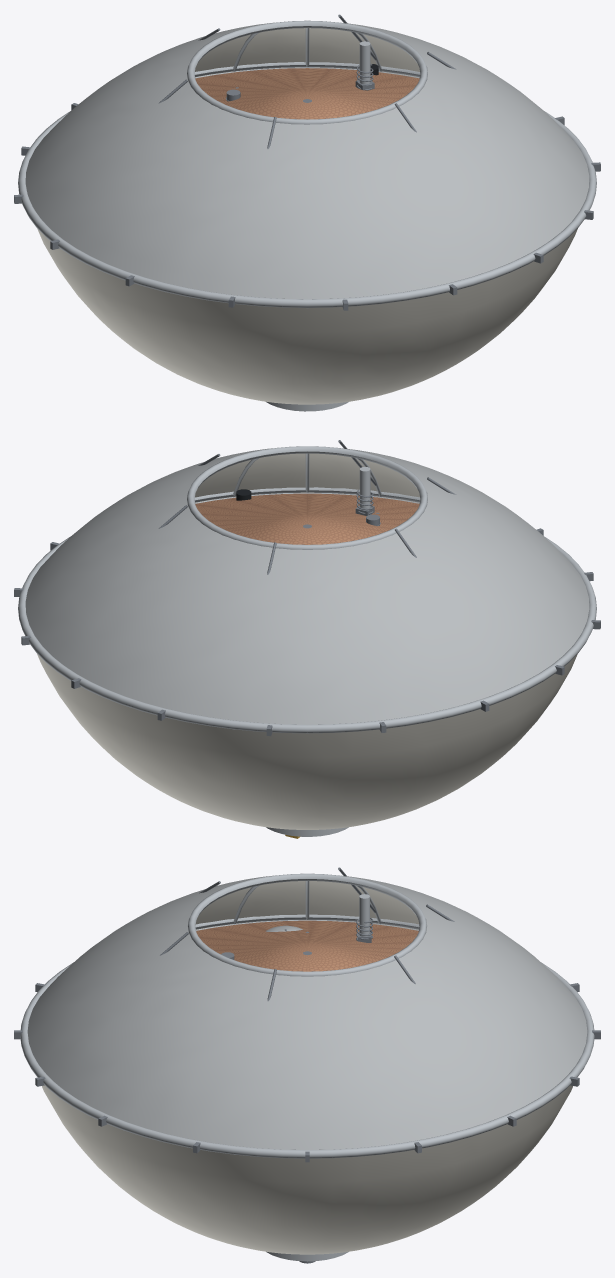
File: viking2-bioshield.glb
3 renders of one model, top to bottom at view 1: azimuth 30°, elevation 25°; view 2: azimuth 150°, elevation 25°; view 3: azimuth 270°, elevation 25°, orthographic.
Visible parts, largest first — view 1: VLC_BIOSHIELD_BASE, VLC_BIOSHIELD_CAP, VLC_BIOSHIELD_SEPARATION_JOINT, VLC_HEAT_SHIELD, VLC_AEROSHELL_MOUNTS, VLC_BIOSHIELD_STRUT_RODS; view 2: VLC_BIOSHIELD_BASE, VLC_BIOSHIELD_CAP, VLC_BIOSHIELD_SEPARATION_JOINT, VLC_HEAT_SHIELD, VLC_AEROSHELL_MOUNTS, VLC_BIOSHIELD_STRUT_RODS; view 3: VLC_BIOSHIELD_BASE, VLC_BIOSHIELD_CAP, VLC_BIOSHIELD_SEPARATION_JOINT, VLC_HEAT_SHIELD, VLC_AEROSHELL_MOUNTS, VLC_BIOSHIELD_STRUT_RODS.
Part boxes in pixels (left/top/right/bottom): VLC_BIOSHIELD_BASE: left=25, top=20, right=589, bottom=299; VLC_BIOSHIELD_CAP: left=37, top=67, right=577, bottom=404; VLC_BIOSHIELD_SEPARATION_JOINT: left=14, top=62, right=600, bottom=310; VLC_HEAT_SHIELD: left=195, top=68, right=419, bottom=119; VLC_AEROSHELL_MOUNTS: left=355, top=41, right=374, bottom=90; VLC_BIOSHIELD_STRUT_RODS: left=158, top=14, right=456, bottom=148; VLC_BIOSHIELD_BASE: left=25, top=446, right=589, bottom=724; VLC_BIOSHIELD_CAP: left=37, top=492, right=577, bottom=829; VLC_BIOSHIELD_SEPARATION_JOINT: left=14, top=487, right=600, bottom=736; VLC_HEAT_SHIELD: left=195, top=493, right=419, bottom=544; VLC_AEROSHELL_MOUNTS: left=355, top=467, right=374, bottom=515; VLC_BIOSHIELD_STRUT_RODS: left=158, top=440, right=456, bottom=574; VLC_BIOSHIELD_BASE: left=27, top=873, right=587, bottom=1149; VLC_BIOSHIELD_CAP: left=42, top=920, right=572, bottom=1254; VLC_BIOSHIELD_SEPARATION_JOINT: left=14, top=914, right=600, bottom=1162; VLC_HEAT_SHIELD: left=196, top=920, right=418, bottom=971; VLC_AEROSHELL_MOUNTS: left=356, top=894, right=372, bottom=942; VLC_BIOSHIELD_STRUT_RODS: left=160, top=867, right=454, bottom=1001.
Size of the model in its own units: 3.8 by 2.38 by 3.8.
27 materials, 3 textured.
